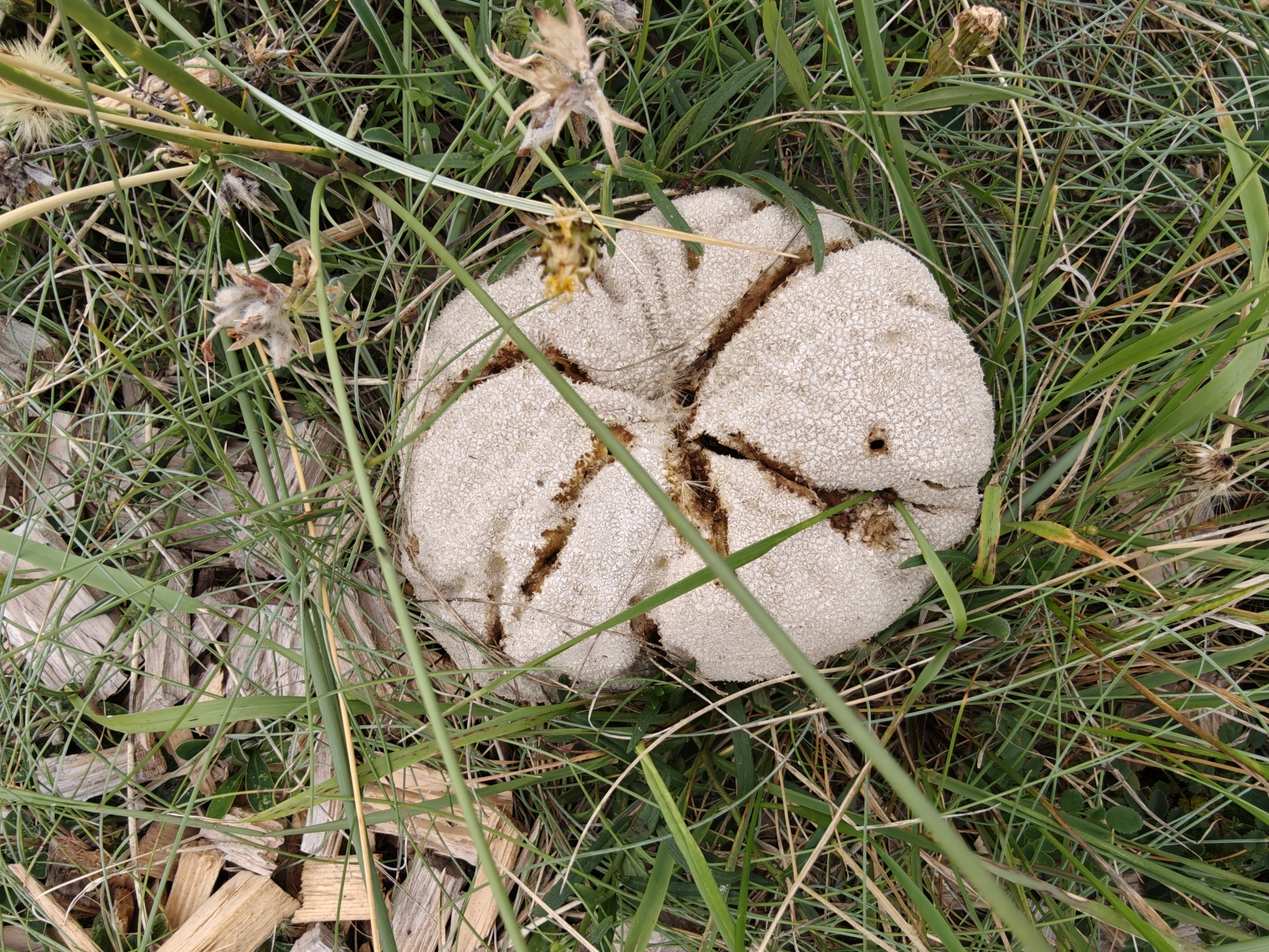Cap: (518, 188, 993, 555), (398, 338, 703, 684), (505, 582, 791, 699), (740, 498, 924, 661), (403, 290, 498, 429)
